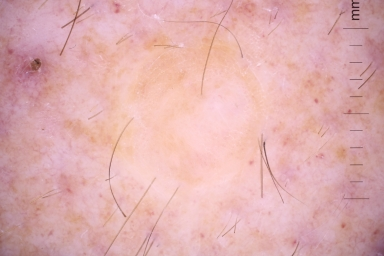melanoma: (99, 38, 266, 221)
